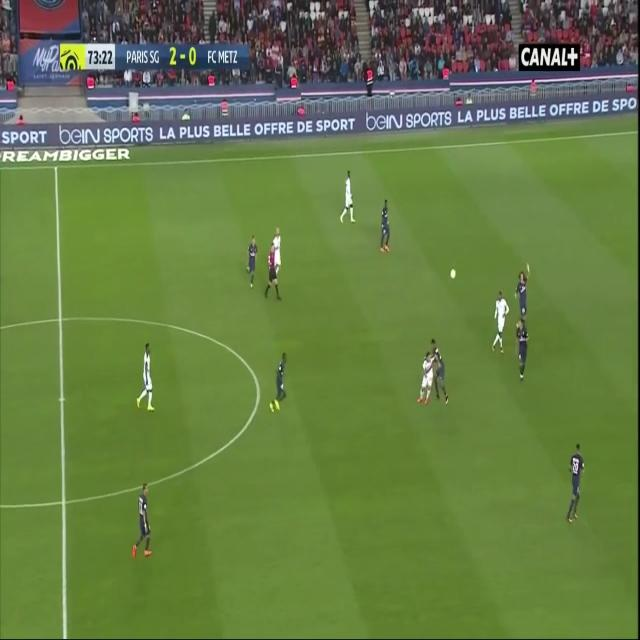Ball: (448, 266, 457, 282)
Player: (129, 480, 154, 563), (564, 441, 586, 526), (134, 338, 156, 414), (266, 349, 290, 416), (430, 337, 452, 407), (490, 289, 510, 357), (377, 193, 394, 259), (339, 168, 356, 229), (416, 352, 434, 409), (515, 316, 529, 382), (244, 234, 259, 291), (516, 261, 531, 311), (271, 226, 284, 277)
Referee: (264, 245, 282, 304)
